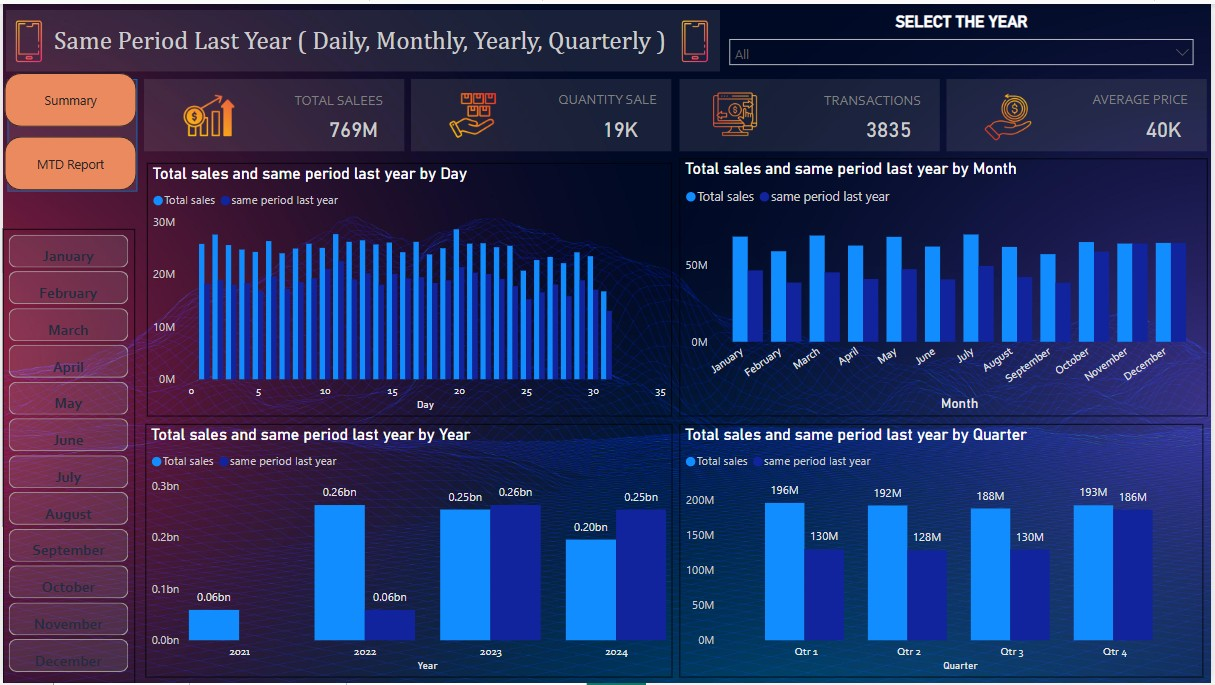

Layout of this report page (visuals, bound fields, positions):
{"tool":"powerbi","page":{"name":"Same Period Last Year","canvas":[1280,720],"ordinal":2},"visuals":[{"type":"shape","box":[3.2,6.4,757.1,65.2],"z":0},{"type":"shape","box":[4.1,79,137.7,119.5],"z":1000},{"type":"textbox","box":[28.6,17.5,699.9,46.1],"z":2000},{"type":"shape","box":[149.9,79,276,77],"z":3000},{"type":"shape","box":[433.4,79,276,77],"z":4000},{"type":"shape","box":[717,79,276,77],"z":5000},{"type":"shape","box":[1000.5,79,276,77],"z":6000},{"type":"card","fields":{"Values":["Sales_Data.Revenue"]},"box":[287.5,101.2,166.2,61.2],"z":7000},{"type":"card","fields":{"Values":["Sales_Data.Total quantity"]},"box":[571.2,101.2,166.2,61.2],"z":8000},{"type":"card","fields":{"Values":["Sales_Data.average price"]},"box":[1180,101.2,100,61.2],"z":9000},{"type":"card","fields":{"Values":["Sales_Data.transaction"]},"box":[855,102.5,166.2,61.2],"z":10000},{"type":"textbox","box":[304.3,87.1,148.6,64.3],"z":11000},{"type":"textbox","box":[865.7,87.1,147.1,62.9],"z":12000},{"type":"textbox","box":[584.3,85.7,124.3,62.9],"z":13000},{"type":"image","box":[186,86,64,64],"z":14000},{"type":"image","box":[445,87.5,105,61.2],"z":15000},{"type":"image","box":[746.2,81.2,60,71.2],"z":16000},{"type":"image","box":[1035,88.3,60,61.7],"z":17000},{"type":"textbox","box":[1150,86,126,62],"z":18000},{"type":"advancedSlicerVisual","fields":{"Values":["Custom_Calendar.Date.Variation.Date Hierarchy.Month"]},"box":[0,239,139.7,482],"z":19000},{"type":"clusteredColumnChart","fields":{"Category":["Custom_Calendar.Date.Variation.Date Hierarchy.Year","Custom_Calendar.Date.Variation.Date Hierarchy.Quarter","Custom_Calendar.Date.Variation.Date Hierarchy.Month","Custom_Calendar.Date.Variation.Date Hierarchy.Day"],"Y":["Sales_Data.Total sales","Sales_Data.same period last year"]},"box":[153.3,168.3,556.7,268.3],"z":20000},{"type":"clusteredColumnChart","fields":{"Category":["Custom_Calendar.Date.Variation.Date Hierarchy.Year","Custom_Calendar.Date.Variation.Date Hierarchy.Quarter","Custom_Calendar.Date.Variation.Date Hierarchy.Month","Custom_Calendar.Date.Variation.Date Hierarchy.Day"],"Y":["Sales_Data.Total sales","Sales_Data.same period last year"]},"box":[151.7,445,558.3,268.3],"z":21000},{"type":"clusteredColumnChart","fields":{"Category":["Custom_Calendar.Date.Variation.Date Hierarchy.Year","Custom_Calendar.Date.Variation.Date Hierarchy.Quarter","Custom_Calendar.Date.Variation.Date Hierarchy.Month","Custom_Calendar.Date.Variation.Date Hierarchy.Day"],"Y":["Sales_Data.Total sales","Sales_Data.same period last year"]},"box":[716.7,163.3,560,273.3],"z":22000},{"type":"clusteredColumnChart","fields":{"Category":["Custom_Calendar.Date.Variation.Date Hierarchy.Year","Custom_Calendar.Date.Variation.Date Hierarchy.Quarter","Custom_Calendar.Date.Variation.Date Hierarchy.Month","Custom_Calendar.Date.Variation.Date Hierarchy.Day"],"Y":["Sales_Data.Total sales","Sales_Data.same period last year"]},"box":[716.7,445,555,268.3],"z":23000},{"type":"image","box":[0,1.6,54.1,76.3],"z":24000},{"type":"image","box":[706.2,1.6,54.1,76.3],"z":25000},{"type":"pageNavigator","box":[1.7,73.3,140,125],"z":26000},{"type":"slicer","title":"SELECT THE YEAR","fields":{"Values":["Custom_Calendar.Date.Variation.Date Hierarchy.Year"]},"box":[760.3,8,512.2,70],"z":26001}]}

Visuals, with their boxes in screenshot pixels (x1, y1, x2, y2), scaled from the page's 1280x720 canvas onto the 1215x685 screenshot:
shape: detection(3, 6, 722, 68)
shape: detection(4, 75, 135, 189)
textbox: detection(27, 17, 692, 61)
shape: detection(142, 75, 404, 148)
shape: detection(411, 75, 673, 148)
shape: detection(681, 75, 943, 148)
shape: detection(950, 75, 1212, 148)
card - Sales_Data.Revenue: detection(273, 96, 431, 155)
card - Sales_Data.Total quantity: detection(542, 96, 700, 155)
card - Sales_Data.average price: detection(1120, 96, 1214, 155)
card - Sales_Data.transaction: detection(812, 98, 969, 156)
textbox: detection(289, 83, 430, 144)
textbox: detection(822, 83, 961, 143)
textbox: detection(555, 82, 673, 141)
image: detection(177, 82, 237, 143)
image: detection(422, 83, 522, 141)
image: detection(708, 77, 765, 145)
image: detection(982, 84, 1039, 143)
textbox: detection(1092, 82, 1211, 141)
advancedSlicerVisual - Custom_Calendar.Date.Variation.Date Hierarchy.Month: detection(0, 227, 133, 684)
clusteredColumnChart - Custom_Calendar.Date.Variation.Date Hierarchy.Year x Custom_Calendar.Date.Variation.Date Hierarchy.Quarter: detection(146, 160, 674, 415)
clusteredColumnChart - Custom_Calendar.Date.Variation.Date Hierarchy.Year x Custom_Calendar.Date.Variation.Date Hierarchy.Quarter: detection(144, 423, 674, 679)
clusteredColumnChart - Custom_Calendar.Date.Variation.Date Hierarchy.Year x Custom_Calendar.Date.Variation.Date Hierarchy.Quarter: detection(680, 155, 1212, 415)
clusteredColumnChart - Custom_Calendar.Date.Variation.Date Hierarchy.Year x Custom_Calendar.Date.Variation.Date Hierarchy.Quarter: detection(680, 423, 1207, 679)
image: detection(0, 2, 51, 74)
image: detection(670, 2, 722, 74)
pageNavigator: detection(2, 70, 135, 189)
"SELECT THE YEAR" slicer: detection(722, 8, 1208, 74)
